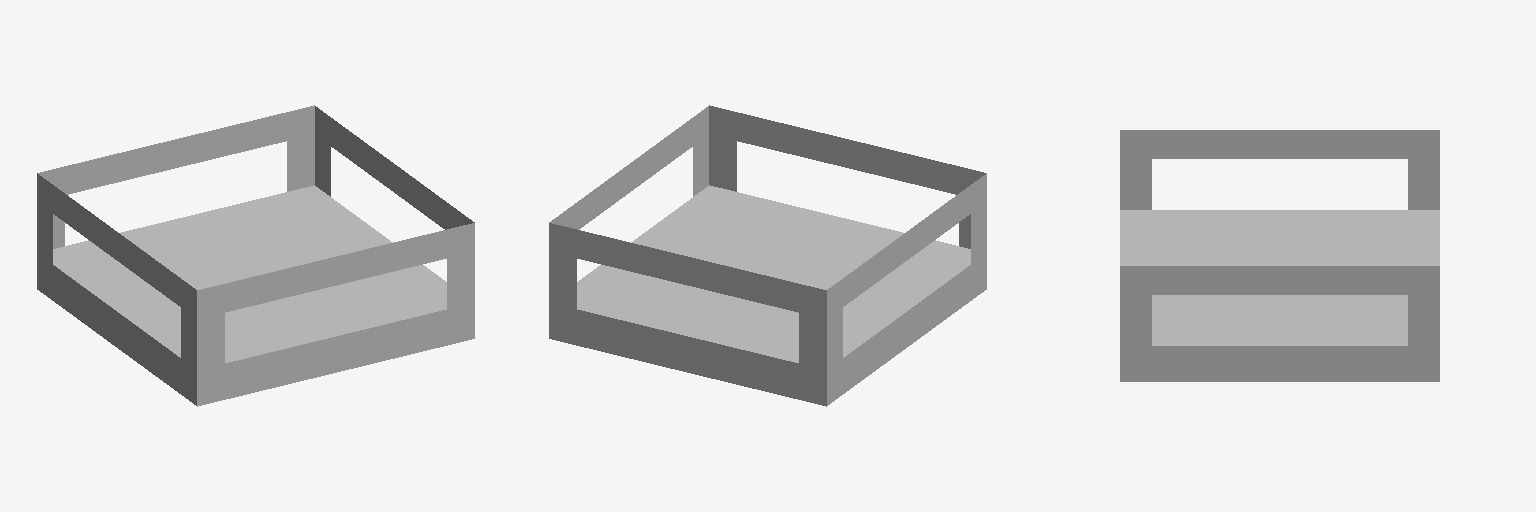
File: wood-floor-railing.obj
3 views of the same model, side by side, from view 1: azimuth 30°, elevation 25°; view 2: azimuth 150°, elevation 25°; view 3: azimuth 270°, elevation 25° (orthographic).
Visible parts, largest first — view 1: wood-floor-railing; view 2: wood-floor-railing; view 3: wood-floor-railing.
Part boxes in pixels (bbox=[...]): wood-floor-railing: bbox=[37, 105, 474, 406]; wood-floor-railing: bbox=[549, 105, 986, 406]; wood-floor-railing: bbox=[1120, 130, 1439, 381].
Bounding box in the file's own units: 1 × 0.4 × 1.